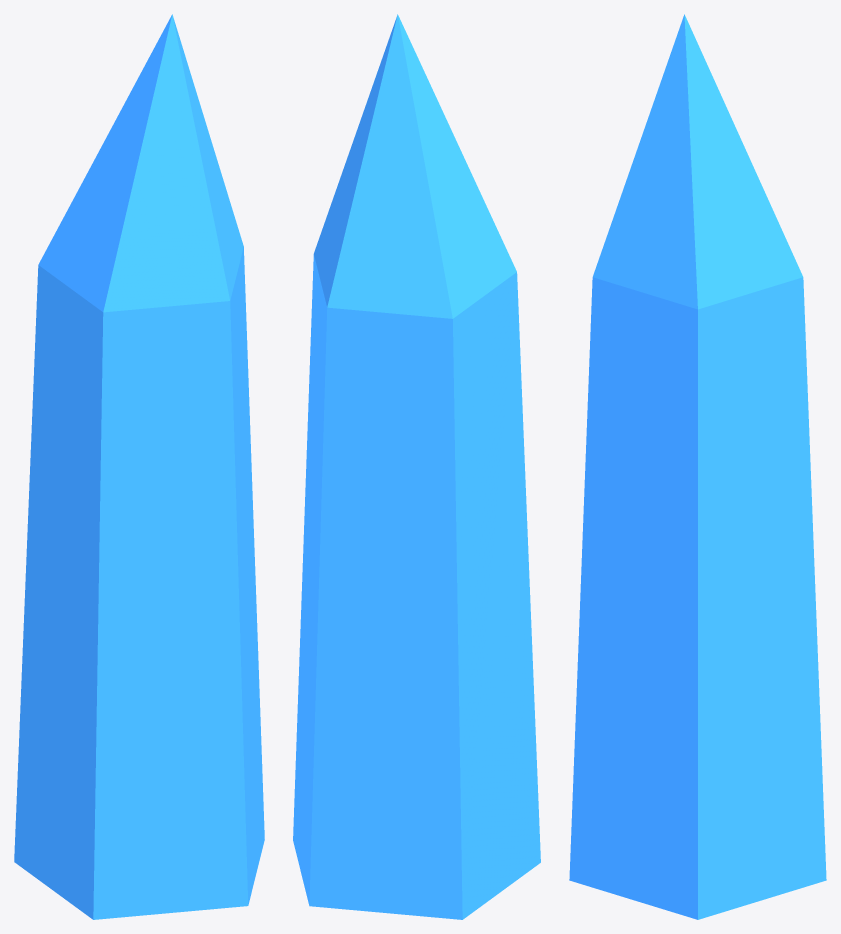
File: safira.glb
3 renders of one model, left to right at view 1: azimuth 30°, elevation 25°; view 2: azimuth 150°, elevation 25°; view 3: azimuth 270°, elevation 25°, orthographic.
Parts seen in each view (by area): view 1: GEM_02_PentagonalShard; view 2: GEM_02_PentagonalShard; view 3: GEM_02_PentagonalShard.
Boxes of the visible parts, <box> form: GEM_02_PentagonalShard: <box>14,14,264,919</box>; GEM_02_PentagonalShard: <box>293,14,540,919</box>; GEM_02_PentagonalShard: <box>569,14,826,919</box>.
Size of the model in its own units: 0.3618 by 1.4 by 0.3805.
